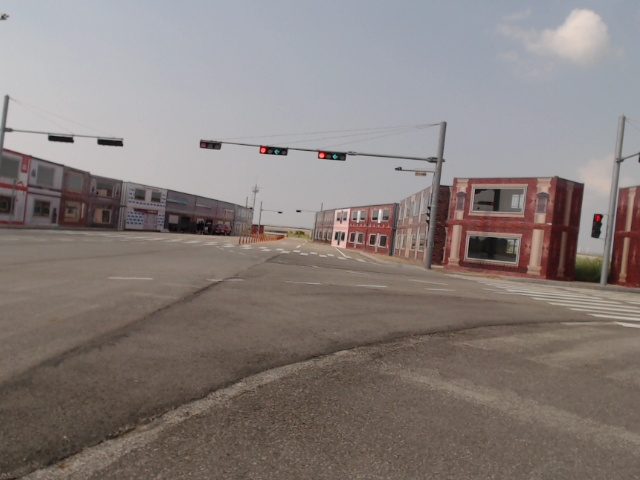left_green_4: (320, 151, 345, 160), (260, 147, 286, 155)
